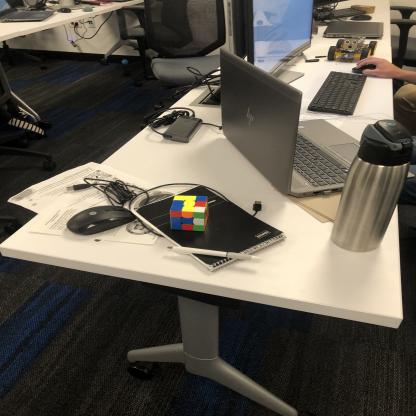UnsolvedCube: (170, 192, 209, 233)
